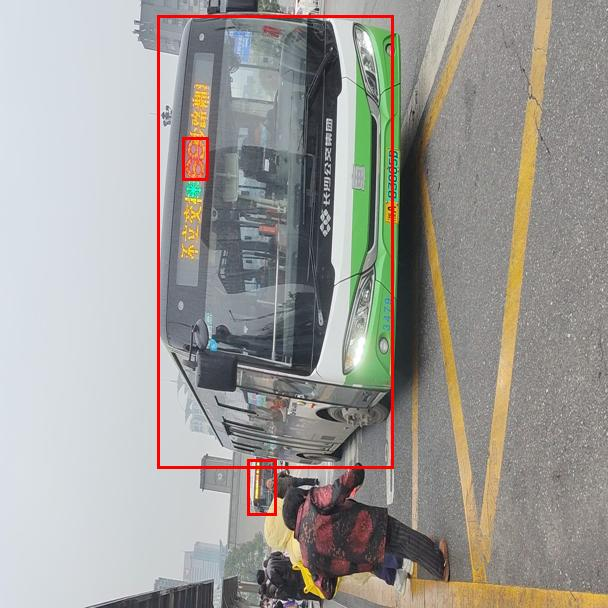bus: (182, 137, 208, 180)
screen: (157, 15, 393, 468), (247, 459, 276, 515)
